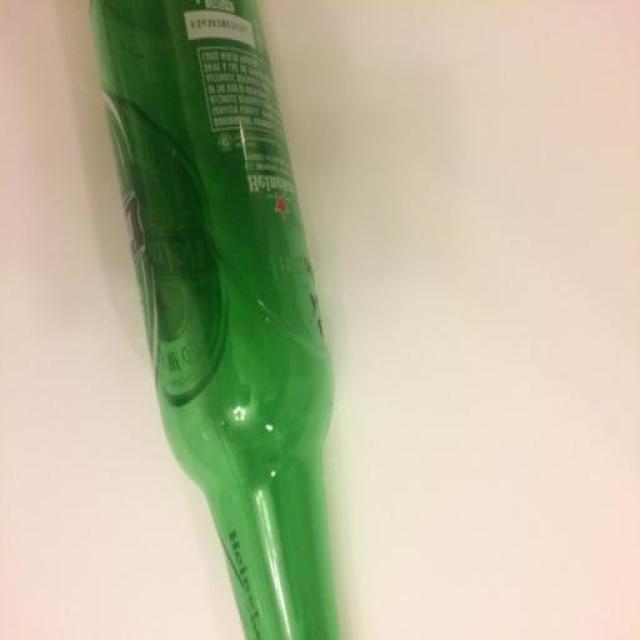glass: (89, 0, 342, 640)
